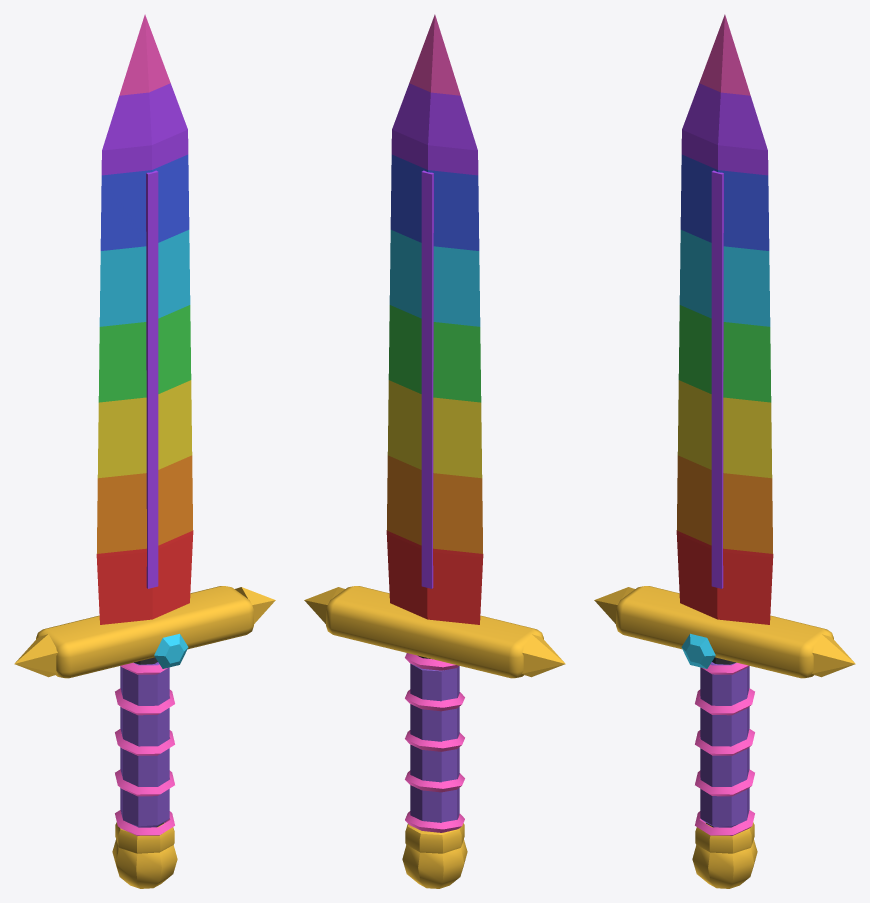
Rendered from RainbowSword.fbx.
The picture shows the model from 3 angles, left to right: view 1: azimuth 30°, elevation 25°; view 2: azimuth 150°, elevation 25°; view 3: azimuth 330°, elevation 25°; orthographic projection.
Parts seen in each view (by area): view 1: RainbowSword; view 2: RainbowSword; view 3: RainbowSword.
Boxes of the visible parts, <box> form: RainbowSword: <box>14,14,275,888</box>; RainbowSword: <box>304,14,565,888</box>; RainbowSword: <box>594,14,855,888</box>.
Bounding box in the file's own units: 1.52 × 4.84 × 0.47.
Materials: 1 (1 with a texture image).
